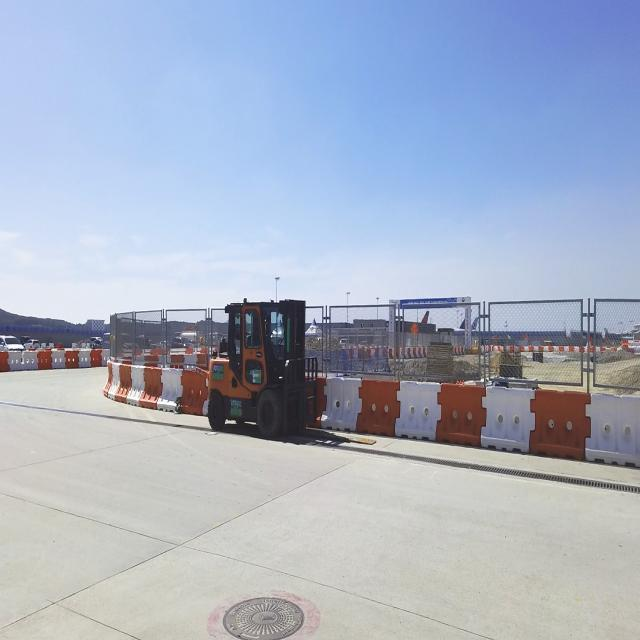forklift: (210, 302, 310, 431)
